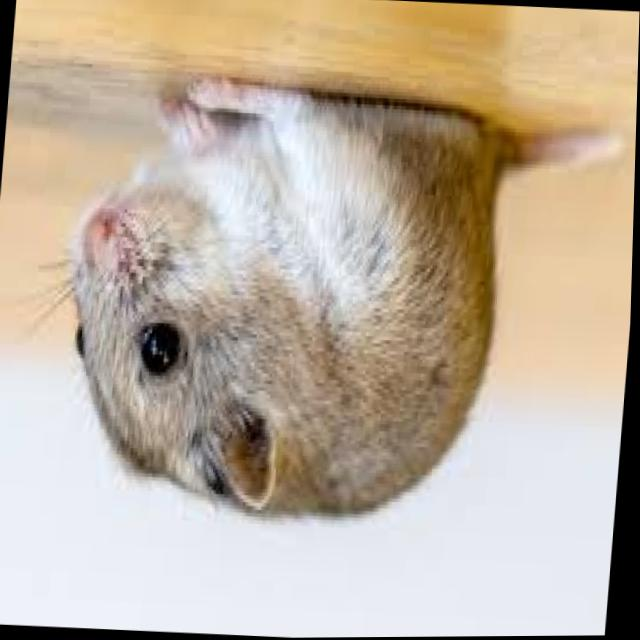person: (14, 57, 626, 593)
